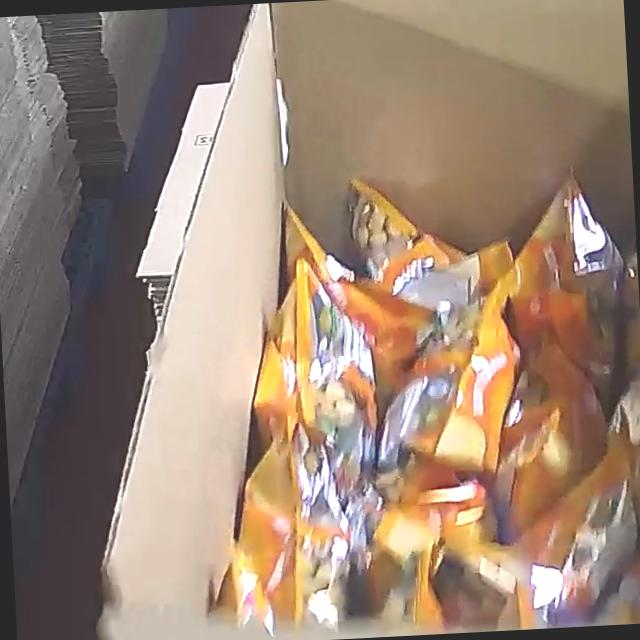cheese: (202, 157, 640, 640)
